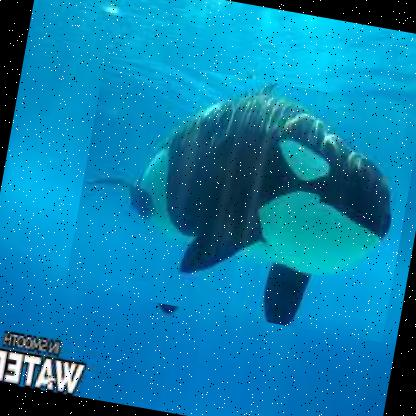killer_whale: (63, 53, 415, 344)
